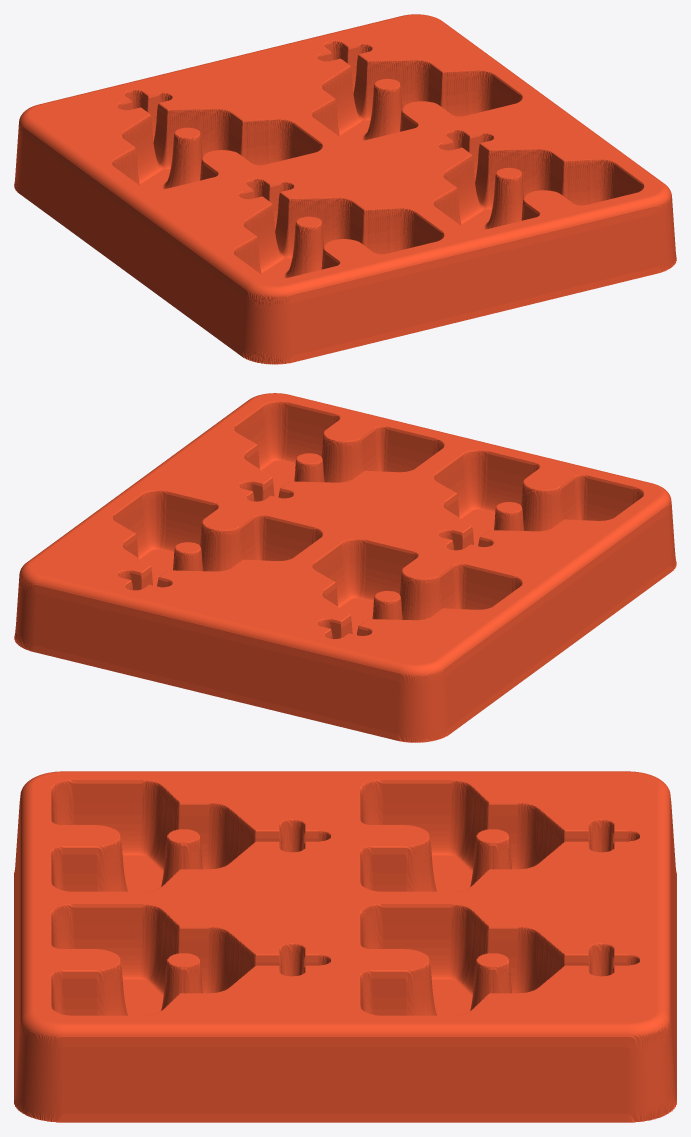
File: mold.glb
3 renders of one model, top to bottom at view 1: azimuth 30°, elevation 25°; view 2: azimuth 150°, elevation 25°; view 3: azimuth 270°, elevation 25°, orthographic. The views are drawn at different scales.
Parts seen in each view (by area): view 1: geometry_0; view 2: geometry_0; view 3: geometry_0.
Part boxes in pixels (x1,y1,x2,y2): geometry_0: [14, 14, 676, 364]; geometry_0: [14, 393, 676, 742]; geometry_0: [14, 771, 676, 1122].
Size of the model in its own units: 0.1161 by 0.0185 by 0.1218.
